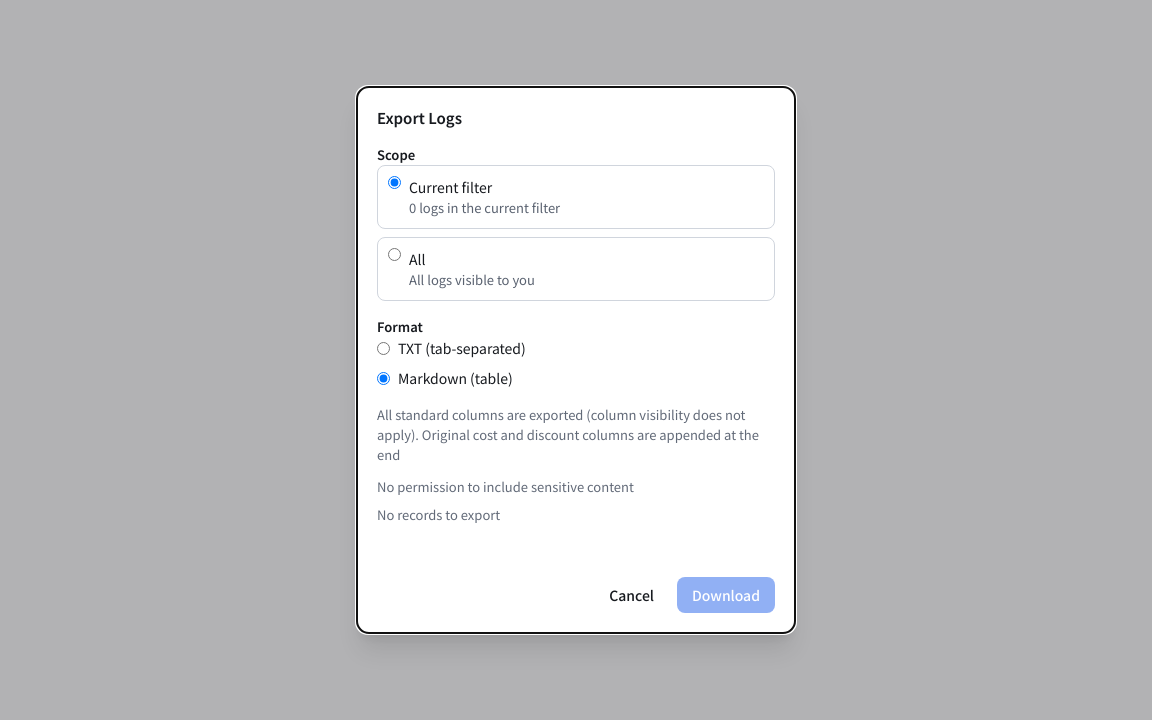
Test: ExportDialog (F-05-07) › disables Download when the current filter has zero rows
Expected: the button with test id "export-download" is disabled, [677,577,775,613]
Note: 「全部」不受当前筛选 0 条影响：服务端会给出准确答复（204/文件）。
Click the radio button with test id "export-scope-all". click: [394, 254]
box: [388,248,401,261]
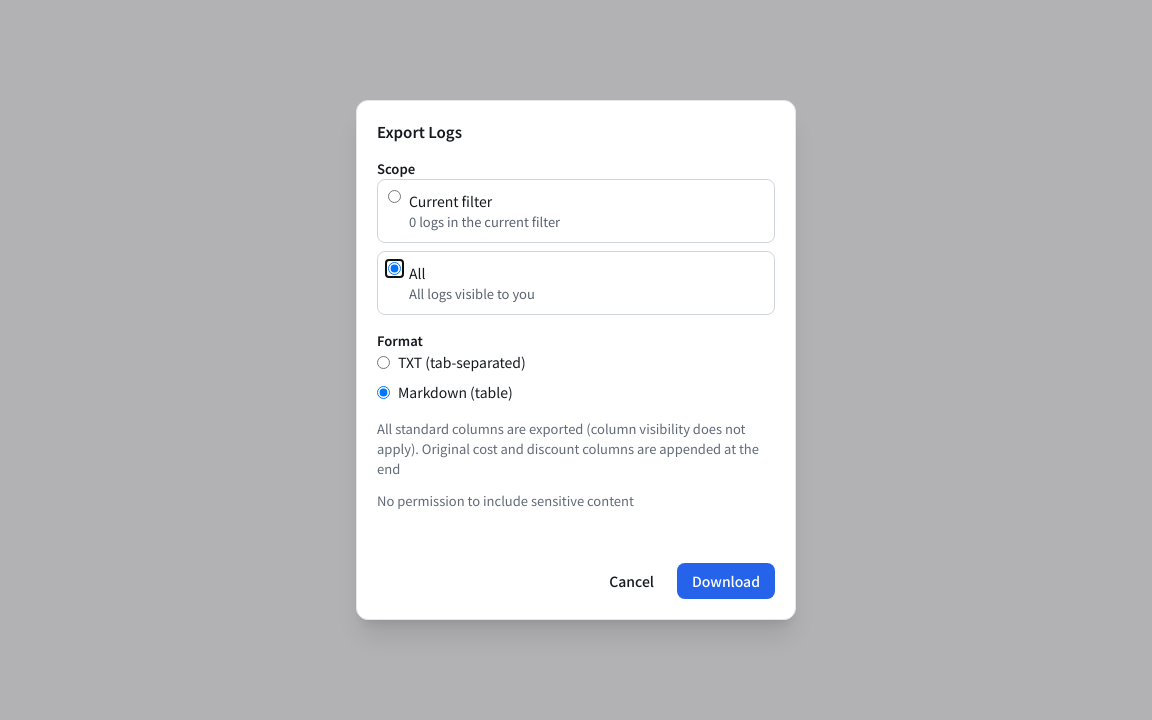
Expected: the button with test id "export-download" is enabled, [677,563,775,599]
